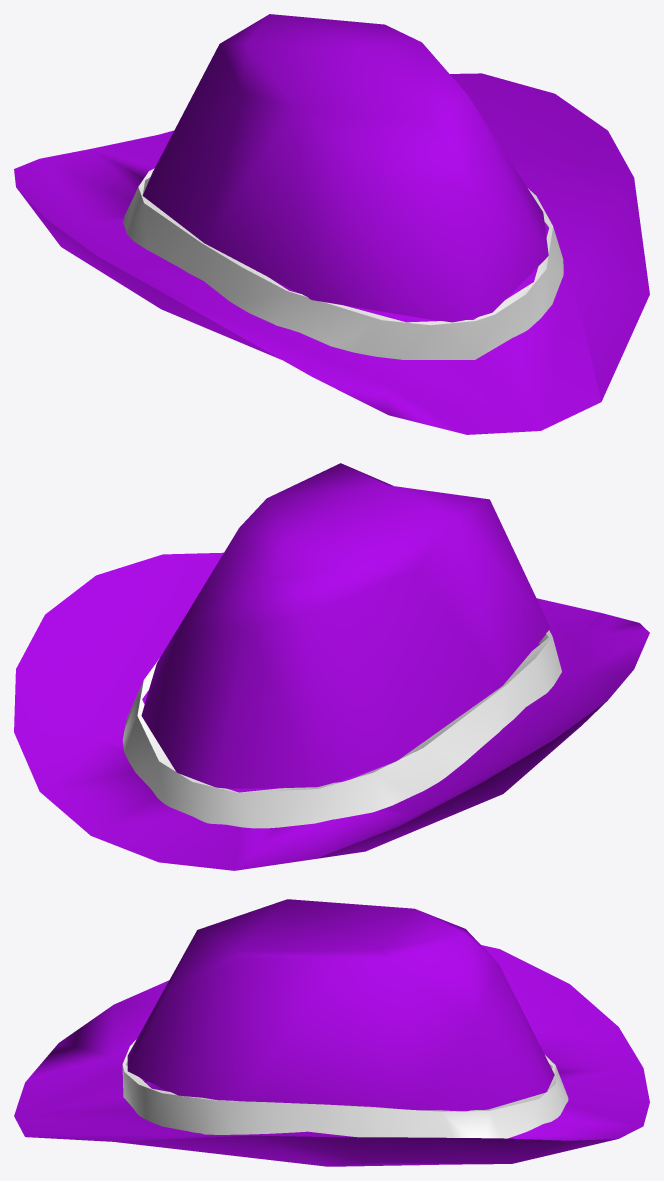
The model's file is sombrerito.gltf.
The picture shows the model from 3 angles, top to bottom: view 1: azimuth 30°, elevation 25°; view 2: azimuth 150°, elevation 25°; view 3: azimuth 270°, elevation 25°; orthographic projection. The views are drawn at different scales.
Parts seen in each view (by area): view 1: Mesh2_Color_J06_0, Mesh3_Color_J06_0, Mesh1_White1_0; view 2: Mesh2_Color_J06_0, Mesh3_Color_J06_0, Mesh1_White1_0; view 3: Mesh2_Color_J06_0, Mesh3_Color_J06_0, Mesh1_White1_0.
Boxes of the visible parts, box(x1,y1,x2,y2) form: Mesh2_Color_J06_0: box(142, 14, 548, 322); Mesh3_Color_J06_0: box(14, 73, 649, 434); Mesh1_White1_0: box(123, 168, 563, 359); Mesh2_Color_J06_0: box(141, 463, 550, 788); Mesh3_Color_J06_0: box(14, 552, 649, 870); Mesh1_White1_0: box(122, 630, 561, 828); Mesh2_Color_J06_0: box(127, 899, 554, 1110); Mesh3_Color_J06_0: box(14, 945, 649, 1166); Mesh1_White1_0: box(122, 1039, 568, 1138).
Size of the model in its own units: 31.09 by 13.1 by 40.2.
